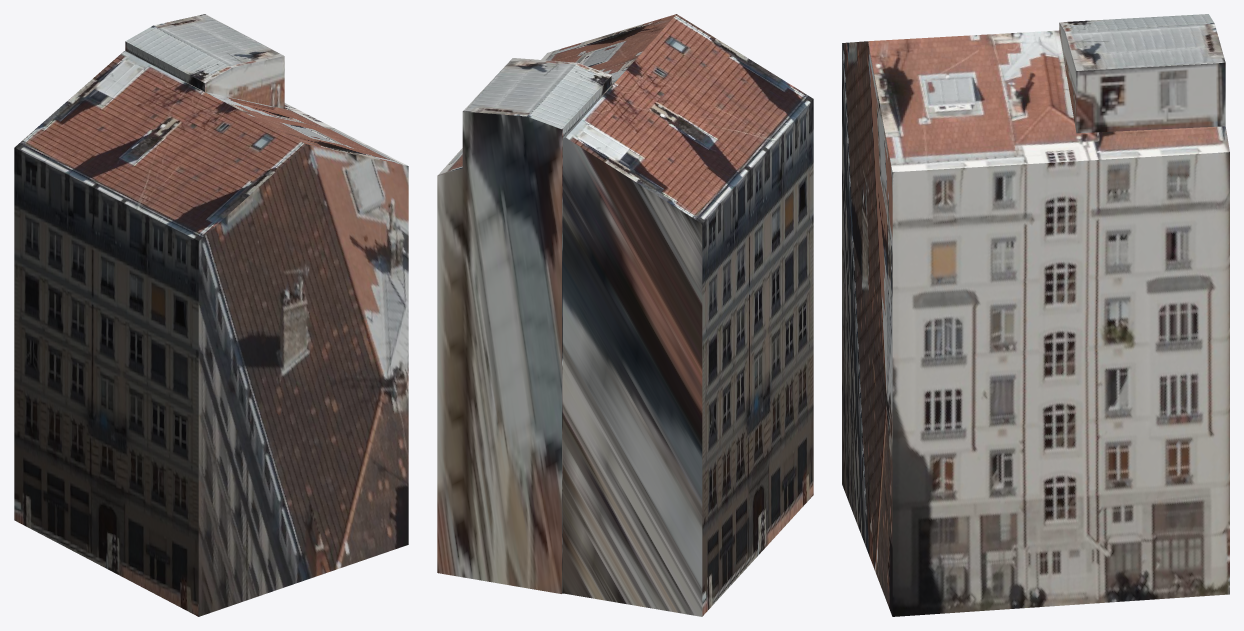
3 renders of one model, left to right at view 1: azimuth 30°, elevation 25°; view 2: azimuth 150°, elevation 25°; view 3: azimuth 270°, elevation 25°, orthographic. The views are drawn at different scales.
Parts seen in each view (by area): view 1: Z_UP; view 2: Z_UP; view 3: Z_UP.
Part boxes in pixels (x1,y1,x2,y2): Z_UP: (14,14,408,616); Z_UP: (437,14,813,616); Z_UP: (842,14,1229,616).
Size of the model in its own units: 17.47 by 27.66 by 18.47.
2 materials, 1 textured.
